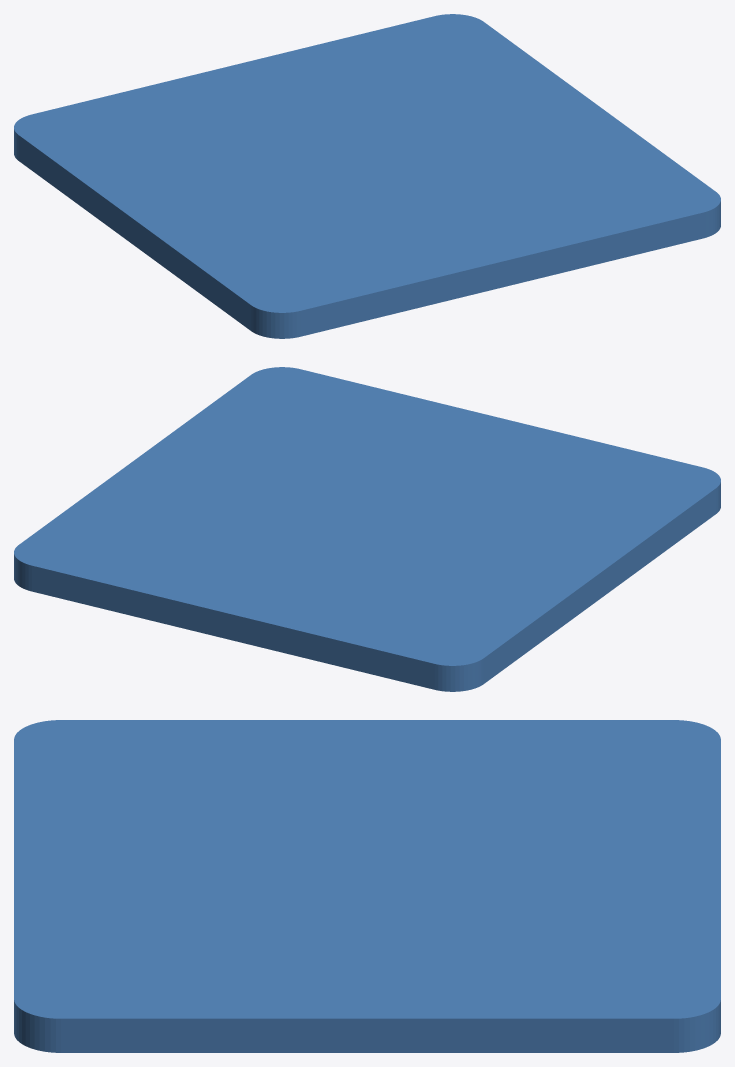
File: elv_mount.dae
3 views of the same model, one above another, from view 1: azimuth 30°, elevation 25°; view 2: azimuth 150°, elevation 25°; view 3: azimuth 270°, elevation 25° (orthographic). The views are drawn at different scales.
Visible parts, largest first — view 1: 5c1678577aeda015ebcfc9a7; view 2: 5c1678577aeda015ebcfc9a7; view 3: 5c1678577aeda015ebcfc9a7.
Part boxes in pixels (x1,y1,x2,y2): 5c1678577aeda015ebcfc9a7: [14, 14, 720, 338]; 5c1678577aeda015ebcfc9a7: [14, 367, 720, 691]; 5c1678577aeda015ebcfc9a7: [14, 720, 720, 1052].
Bounding box in the file's own units: 0.15 × 0.15 × 0.008.
